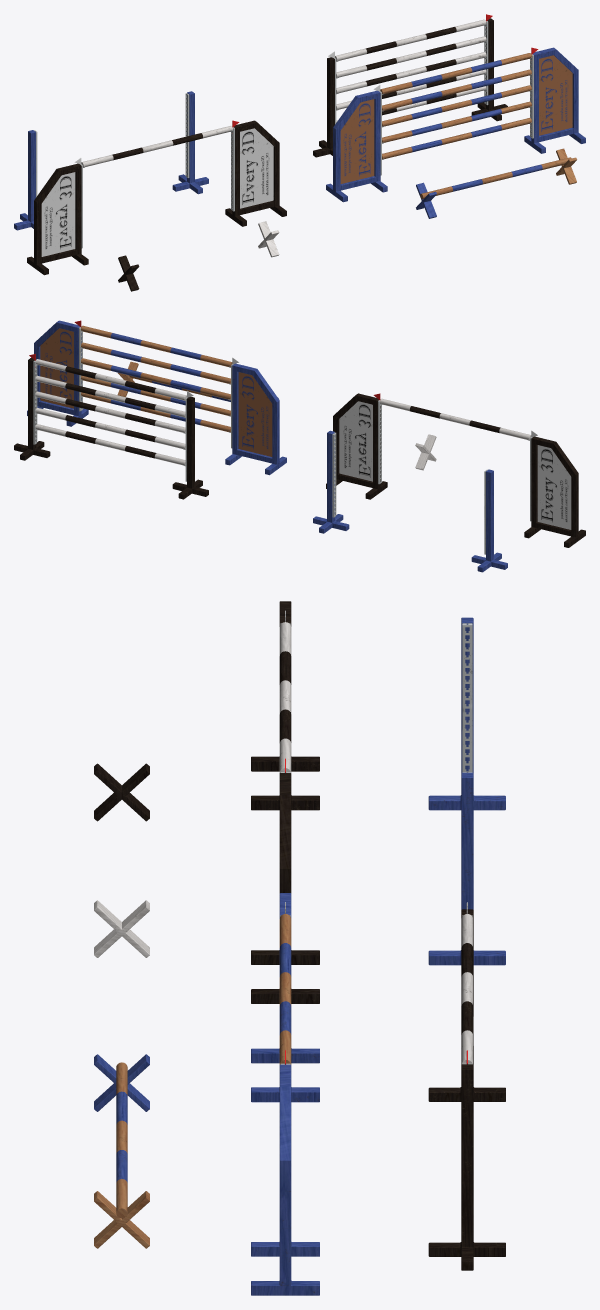
3 views of the same model, one above another, from view 1: azimuth 30°, elevation 25°; view 2: azimuth 150°, elevation 25°; view 3: azimuth 270°, elevation 25° (orthographic). The views are drawn at different scales.
Parts seen in each view (by area): view 1: BarrierEvery3D, Barrier2, HalfBarrier2Every3D, HalfBarrier1Every3D, Barrier1, HalfBarrier1, HalfBarrier2, Pole, Cavaletti2, Cavaletti1; view 2: BarrierEvery3D, Barrier2, HalfBarrier2Every3D, HalfBarrier1Every3D, HalfBarrier2, HalfBarrier1, Pole, Barrier1, Cavaletti1; view 3: BarrierEvery3D, Barrier2, Barrier1, HalfBarrier1Every3D, HalfBarrier2, HalfBarrier1, HalfBarrier2Every3D, Pole, Cavaletti1, Cavaletti2.
Part boxes in pixels (bbox=[...]): BarrierEvery3D: bbox=[326, 47, 585, 202]; Barrier2: bbox=[313, 14, 507, 157]; HalfBarrier2Every3D: bbox=[27, 163, 88, 275]; HalfBarrier1Every3D: bbox=[225, 120, 286, 226]; Barrier1: bbox=[416, 148, 576, 218]; HalfBarrier1: bbox=[172, 91, 208, 194]; HalfBarrier2: bbox=[14, 130, 37, 230]; Pole: bbox=[81, 126, 232, 166]; Cavaletti2: bbox=[118, 255, 139, 291]; Cavaletti1: bbox=[258, 221, 279, 257]; BarrierEvery3D: bbox=[27, 320, 286, 475]; Barrier2: bbox=[14, 354, 208, 499]; HalfBarrier2Every3D: bbox=[524, 436, 585, 547]; HalfBarrier1Every3D: bbox=[326, 393, 387, 499]; HalfBarrier2: bbox=[471, 469, 507, 572]; HalfBarrier1: bbox=[313, 430, 349, 533]; Pole: bbox=[380, 398, 531, 439]; Barrier1: bbox=[117, 361, 278, 401]; Cavaletti1: bbox=[415, 434, 436, 470]; BarrierEvery3D: bbox=[251, 893, 319, 1295]; Barrier2: bbox=[428, 902, 505, 1270]; Barrier1: bbox=[94, 1054, 149, 1248]; HalfBarrier1Every3D: bbox=[251, 772, 319, 1003]; HalfBarrier2: bbox=[428, 617, 505, 810]; HalfBarrier1: bbox=[428, 772, 505, 965]; HalfBarrier2Every3D: bbox=[251, 601, 319, 810]; Pole: bbox=[279, 622, 291, 772]; Cavaletti1: bbox=[94, 900, 149, 957]; Cavaletti2: bbox=[94, 763, 149, 821].
Bounding box in the file's own units: 10.88 × 1.92 × 3.58.
2 materials, 2 textured.
